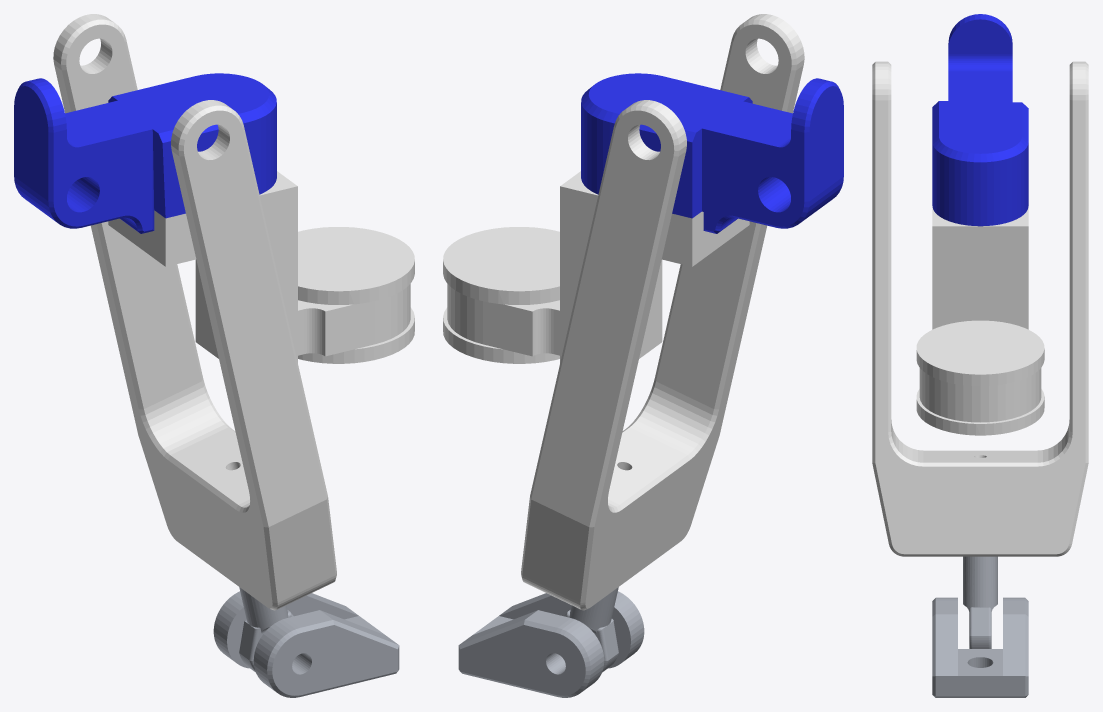
File: finger_base.dae
The picture shows the model from 3 angles, left to right: view 1: azimuth 30°, elevation 25°; view 2: azimuth 150°, elevation 25°; view 3: azimuth 270°, elevation 25°; orthographic projection. The views are drawn at different scales.
Visible parts, largest first — view 1: dhand-finger_-_finger_bottom_3-3, dhand-finger_-_finger_base-2_finger_base_2-1, dhand-finger_-_finger_bottom_2-3; view 2: dhand-finger_-_finger_bottom_3-3, dhand-finger_-_finger_base-2_finger_base_2-1, dhand-finger_-_finger_bottom_2-3; view 3: dhand-finger_-_finger_bottom_3-3, dhand-finger_-_finger_base-2_finger_base_2-1, dhand-finger_-_finger_bottom_2-3.
Part boxes in pixels (x1,y1,x2,y2): dhand-finger_-_finger_bottom_3-3: (53,14,414,610); dhand-finger_-_finger_base-2_finger_base_2-1: (14,73,276,233); dhand-finger_-_finger_bottom_2-3: (213,587,399,697); dhand-finger_-_finger_bottom_3-3: (443,14,804,610); dhand-finger_-_finger_base-2_finger_base_2-1: (581,73,843,233); dhand-finger_-_finger_bottom_2-3: (458,587,644,697); dhand-finger_-_finger_bottom_3-3: (872,61,1088,556); dhand-finger_-_finger_base-2_finger_base_2-1: (932,14,1028,226); dhand-finger_-_finger_bottom_2-3: (932,556,1028,697).
Bounding box in the file's own units: 0.0565 × 0.0338 × 0.0942.
